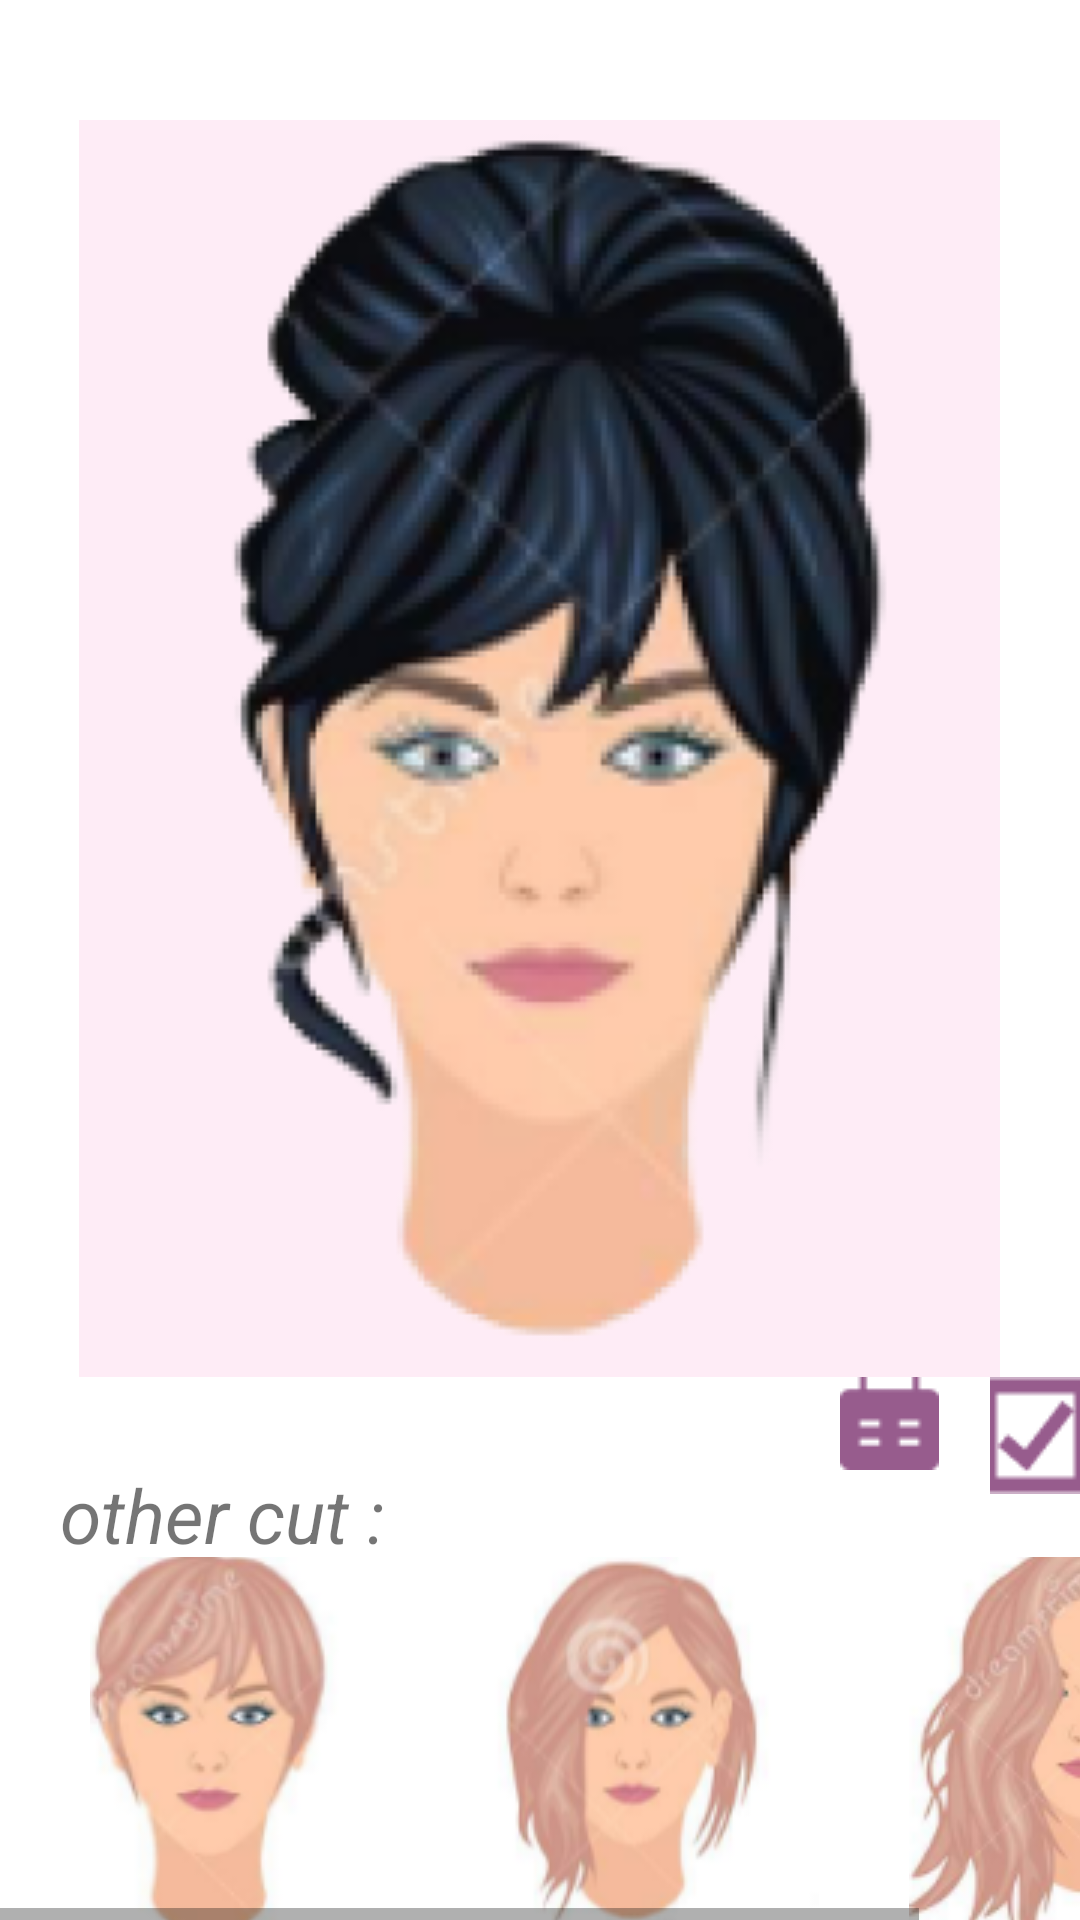

Icon click points for this 1080w x 1920h phone screenshot, format (x,y):
calvec: (889,1423)
